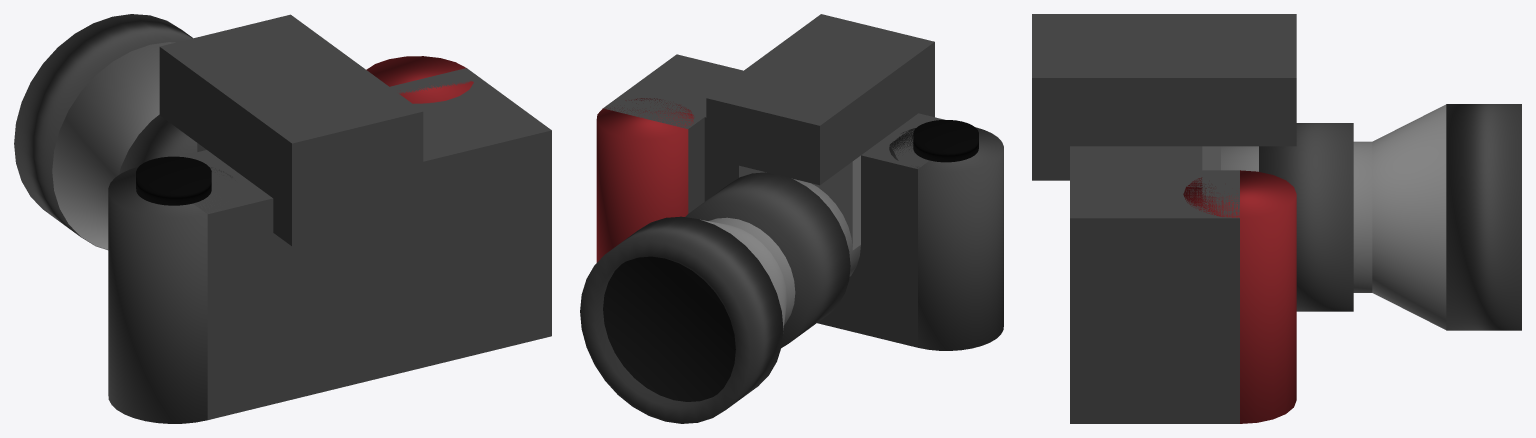
Rendered from Camera.glb.
The picture shows the model from 3 angles, left to right: view 1: azimuth 30°, elevation 25°; view 2: azimuth 150°, elevation 25°; view 3: azimuth 270°, elevation 25°; orthographic projection. The views are drawn at different scales.
Parts seen in each view (by area): view 1: 7, 8, 2, 9, 6, 5, 3, 1, 4, 10; view 2: 5, 8, 7, 2, 4, 1, 9, 10, 3, 12, 11, 6; view 3: 7, 8, 5, 1, 6, 4, 10, 9, 12, 11.
Boxes of the visible parts, x1,y1,x2,y2 form: 7: (179, 82, 551, 419); 8: (159, 14, 403, 197); 2: (108, 166, 237, 423); 9: (273, 97, 423, 246); 6: (52, 42, 175, 249); 5: (14, 14, 192, 249); 3: (136, 156, 211, 205); 1: (366, 56, 473, 103); 4: (119, 114, 197, 174); 10: (390, 68, 485, 93); 5: (580, 216, 783, 423); 8: (706, 26, 918, 185); 7: (619, 54, 943, 347); 2: (889, 127, 1003, 350); 4: (685, 172, 850, 347); 1: (596, 98, 694, 262); 9: (805, 14, 934, 117); 10: (603, 96, 704, 213); 3: (913, 119, 978, 162); 12: (708, 178, 860, 324); 11: (739, 155, 860, 250); 6: (700, 219, 787, 330); 7: (1070, 146, 1202, 423); 8: (1070, 14, 1296, 146); 5: (1446, 104, 1521, 330); 1: (1183, 170, 1296, 423); 6: (1372, 104, 1446, 329); 4: (1259, 123, 1353, 311); 10: (1202, 170, 1239, 423); 9: (1032, 14, 1069, 180); 12: (1221, 141, 1372, 292); 11: (1202, 146, 1220, 170).
Size of the model in its own units: 24.5 by 16 by 25.91.
